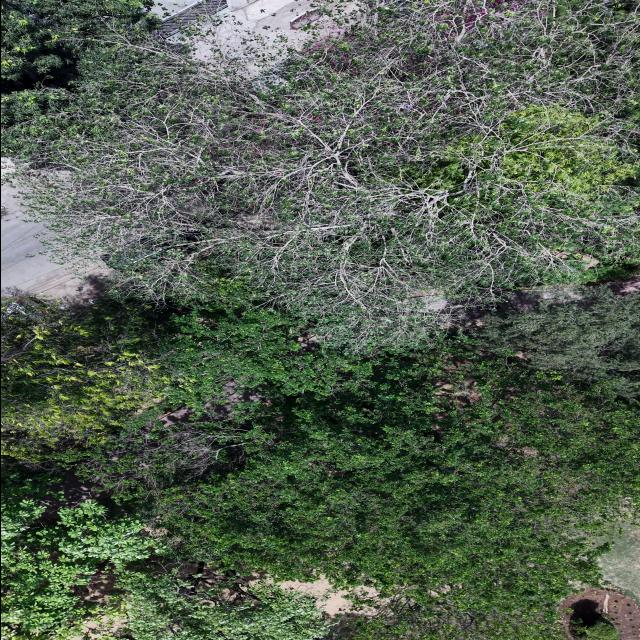DRY_AREA: (1, 183, 109, 302), (560, 526, 639, 639), (560, 588, 639, 639), (277, 578, 371, 617), (599, 527, 639, 600)
VEGETATION_TREE: (1, 0, 639, 639), (21, 0, 639, 349), (55, 299, 638, 634), (99, 311, 638, 610), (155, 361, 638, 609), (1, 299, 328, 639), (1, 298, 167, 460), (1, 465, 153, 639), (1, 0, 154, 155), (476, 284, 639, 396), (117, 565, 328, 639), (1, 0, 147, 92), (326, 594, 563, 639), (580, 621, 619, 639)
